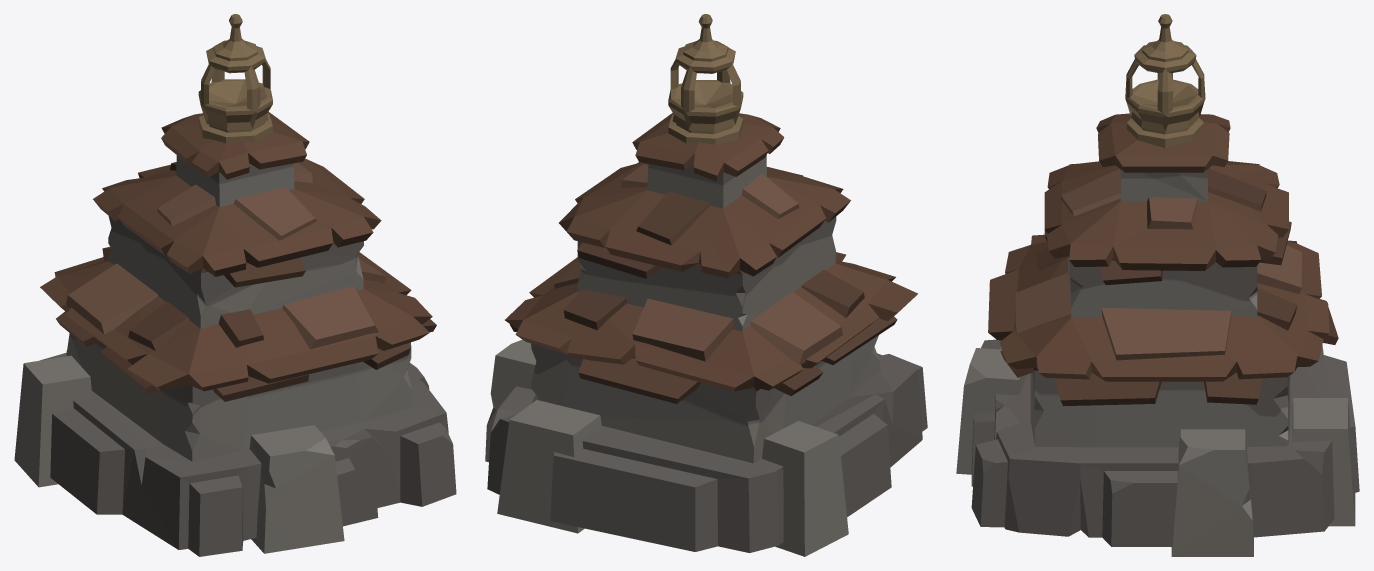
File: res_shrine.gltf
3 views of the same model, side by side, from view 1: azimuth 30°, elevation 25°; view 2: azimuth 150°, elevation 25°; view 3: azimuth 270°, elevation 25° (orthographic).
Visible parts, largest first — view 1: res_shrine; view 2: res_shrine; view 3: res_shrine.
Part boxes in pixels (x1,y1,x2,y2): res_shrine: (14,14,456,556); res_shrine: (485,14,927,556); res_shrine: (956,14,1359,556).
Bounding box in the file's own units: 7.84 × 9.83 × 7.89.
Materials: 1 (1 with a texture image).
